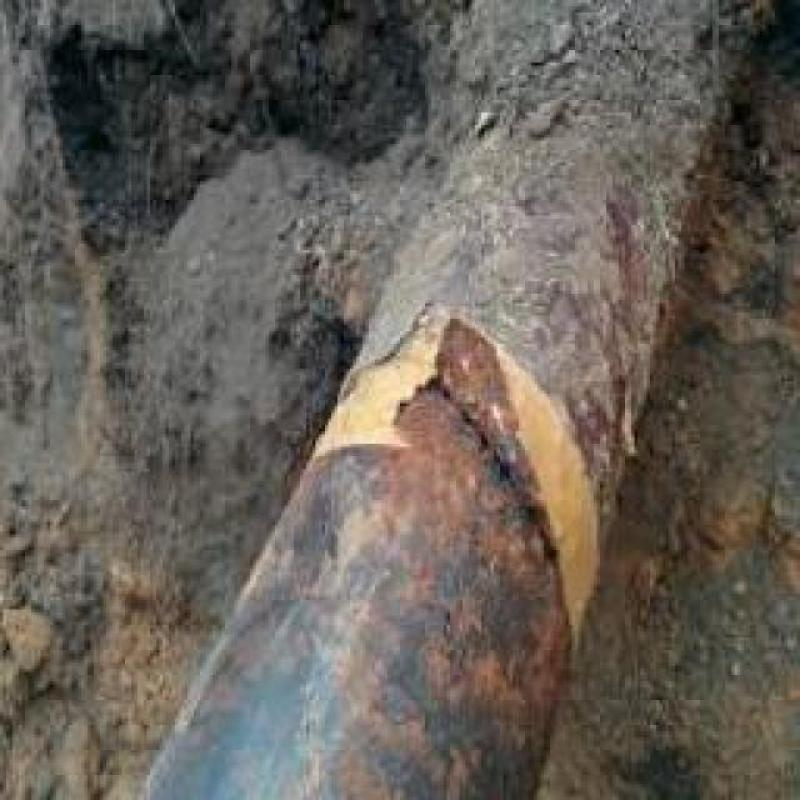Fracture: (405, 363, 572, 585)
